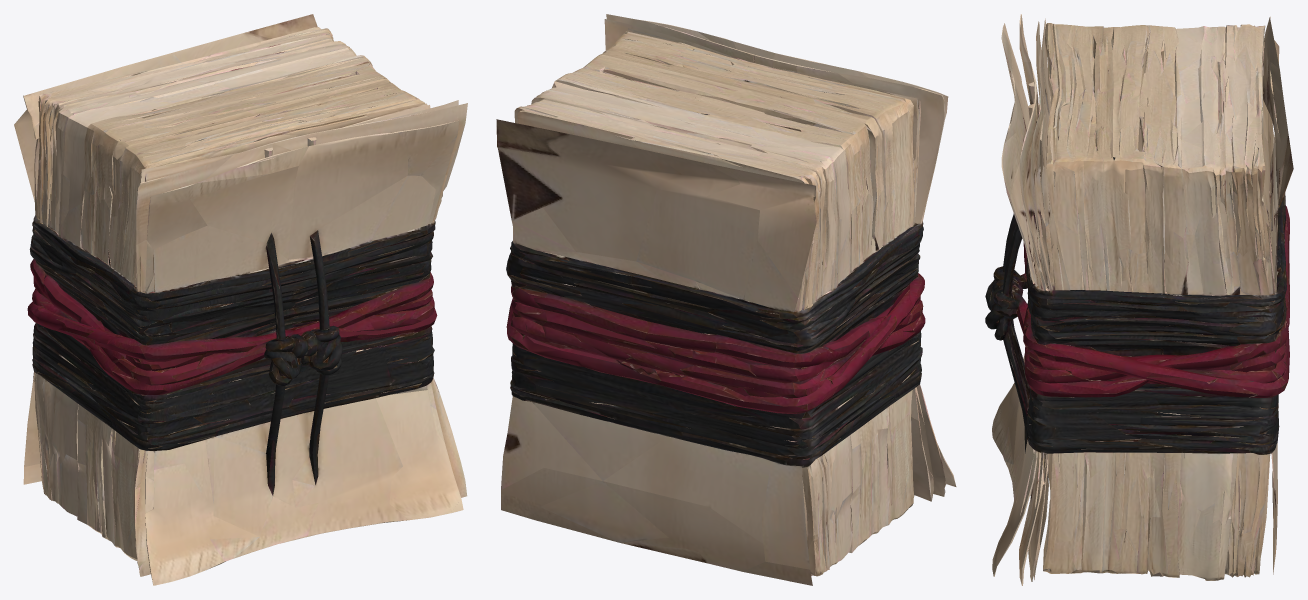
File: case-file.glb
3 views of the same model, side by side, from view 1: azimuth 30°, elevation 25°; view 2: azimuth 150°, elevation 25°; view 3: azimuth 270°, elevation 25° (orthographic). The views are drawn at different scales.
Bounding box in the file's own units: 1.64 × 1.9 × 1.27.
Materials: 1 (1 with a texture image).
